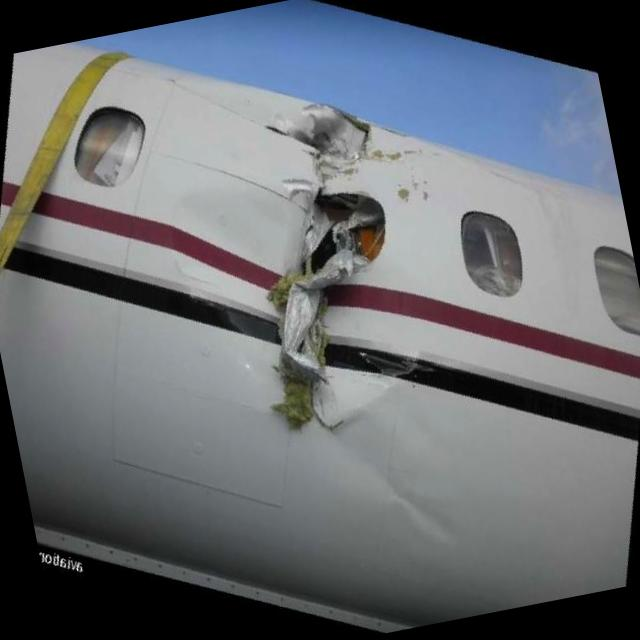crack: (214, 72, 450, 454)
dent: (156, 178, 286, 330), (382, 466, 467, 564)
